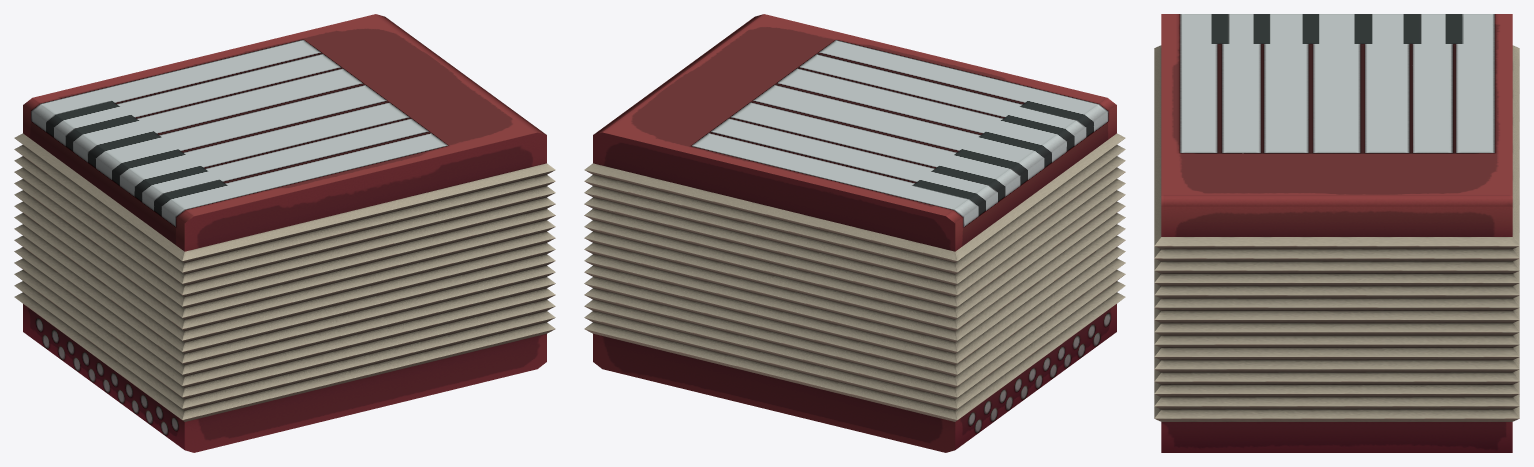
Rendered from Acordeon.fbx.
3 views of the same model, side by side, from view 1: azimuth 30°, elevation 25°; view 2: azimuth 150°, elevation 25°; view 3: azimuth 270°, elevation 25° (orthographic). The views are drawn at different scales.
Visible parts, largest first — view 1: muelle, tapa, base; view 2: muelle, tapa, base; view 3: tapa, muelle, base.
Part boxes in pixels (box(x1,y1,x2,y2)): muelle: box(14, 133, 555, 421); tapa: box(23, 14, 546, 251); base: box(23, 304, 546, 452); muelle: box(584, 133, 1125, 421); tapa: box(593, 14, 1116, 251); base: box(593, 304, 1116, 452); tapa: box(1161, 14, 1512, 236); muelle: box(1154, 45, 1519, 421); base: box(1161, 422, 1512, 452).
Size of the model in its own units: 42.1 by 25.49 by 32.85.
